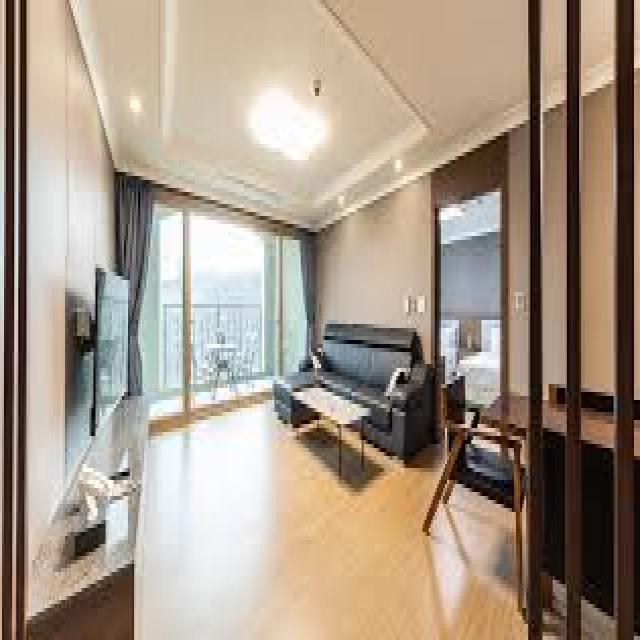Chair: (428, 374, 524, 586)
Sofa: (280, 319, 428, 457)
Table: (295, 383, 371, 480)
tv: (93, 269, 129, 435)
window: (134, 184, 294, 387)
